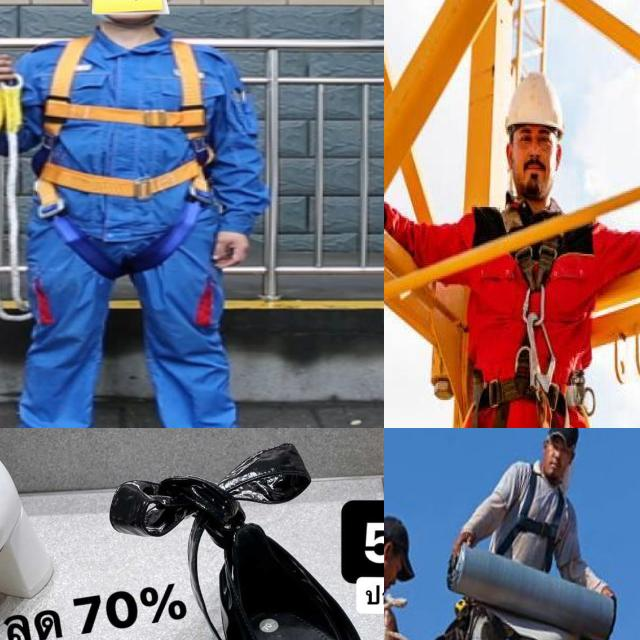Harness: (32, 23, 230, 268), (477, 240, 569, 428), (497, 464, 566, 572)
Sandals: (76, 428, 384, 640)
